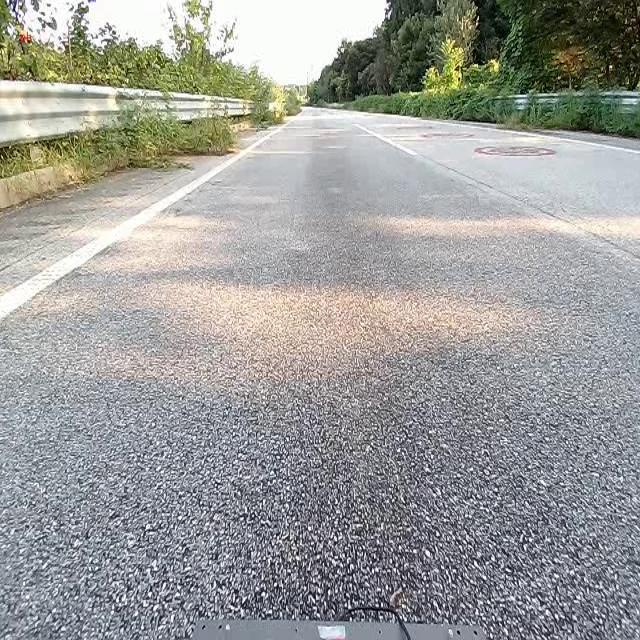Lane: (0, 126, 282, 322), (0, 127, 283, 319)
